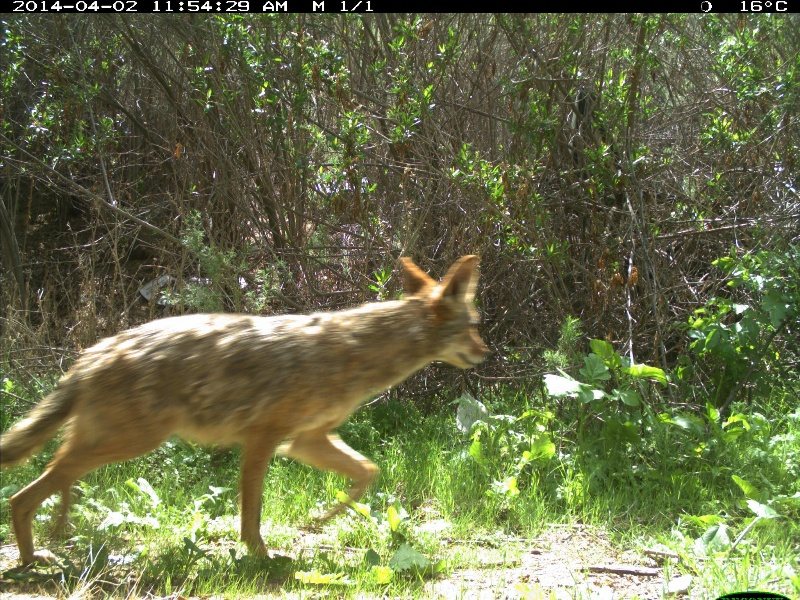coyote: (1, 247, 492, 582)
